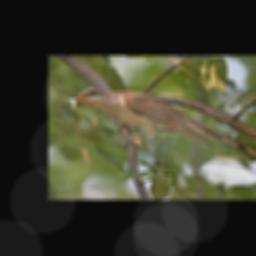Cuckoo: (62, 86, 256, 166)
